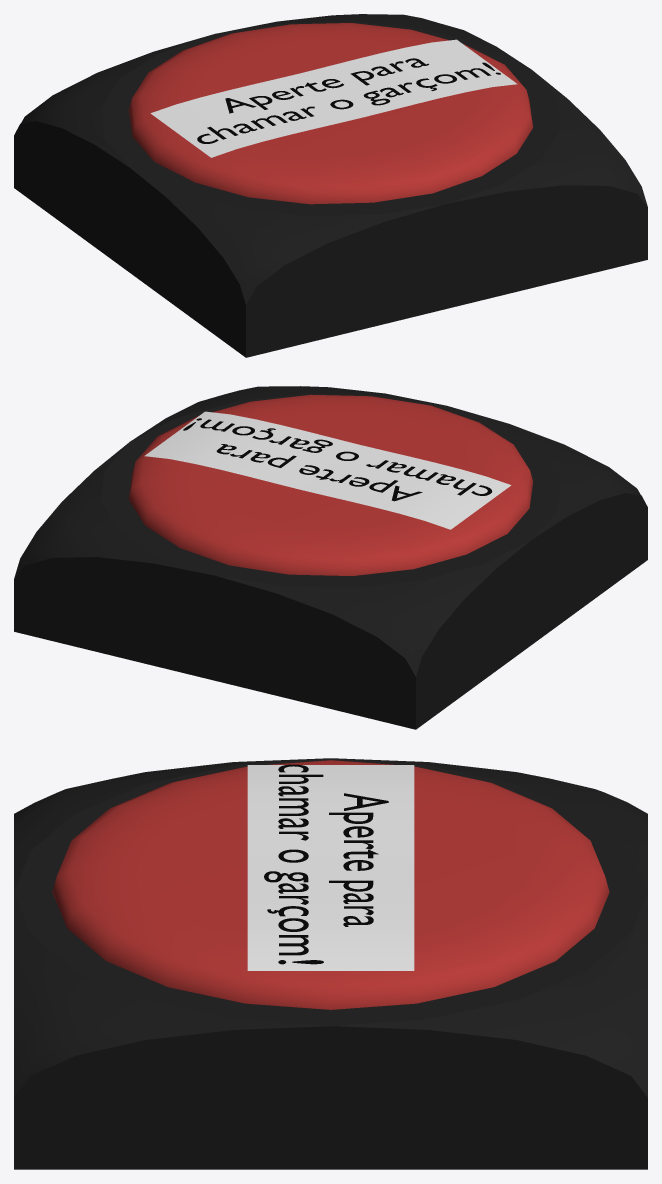
File: buttonCallWaiter.fbx
3 views of the same model, one above another, from view 1: azimuth 30°, elevation 25°; view 2: azimuth 150°, elevation 25°; view 3: azimuth 270°, elevation 25° (orthographic). The views are drawn at different scales.
Visible parts, largest first — view 1: Capa, Botao, Plane, Text; view 2: Capa, Botao, Plane, Text; view 3: Capa, Botao, Plane, Text.
Boxes of the visible parts, x1,y1,x2,y2 form: Capa: (14, 14, 647, 357); Botao: (129, 23, 533, 204); Plane: (150, 39, 517, 157); Text: (197, 58, 500, 143); Capa: (14, 386, 647, 729); Botao: (129, 394, 532, 575); Plane: (144, 411, 511, 529); Text: (183, 418, 492, 501); Capa: (14, 758, 647, 1169); Botao: (52, 760, 609, 1009); Plane: (247, 765, 414, 970); Text: (264, 764, 388, 964).
Size of the model in its own units: 10 by 3.11 by 10.
